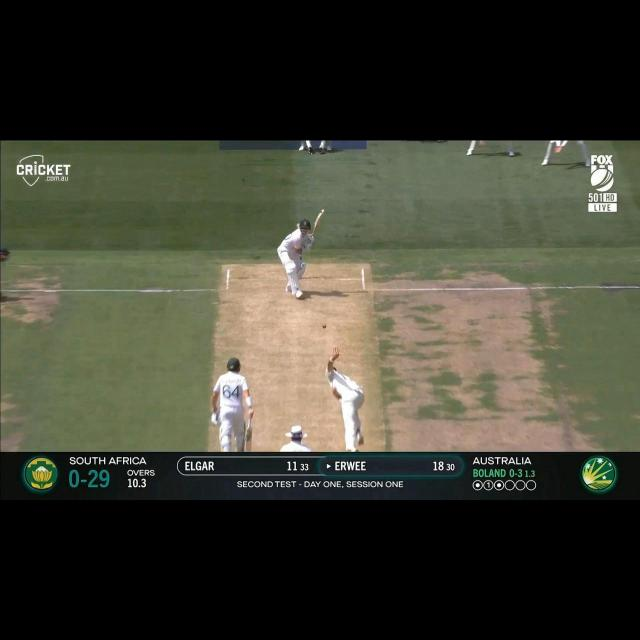bat: (312, 209, 324, 233), (245, 429, 253, 451)
toe: (245, 448, 253, 452), (320, 210, 324, 215)
